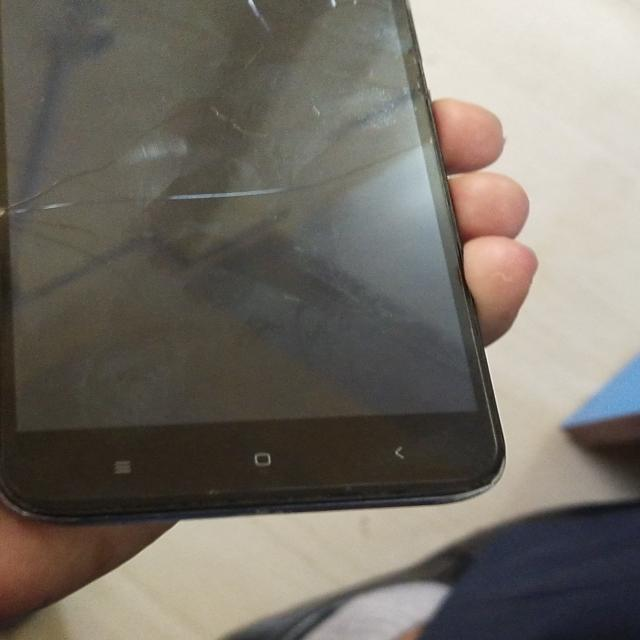Crack: (2, 169, 115, 266)
